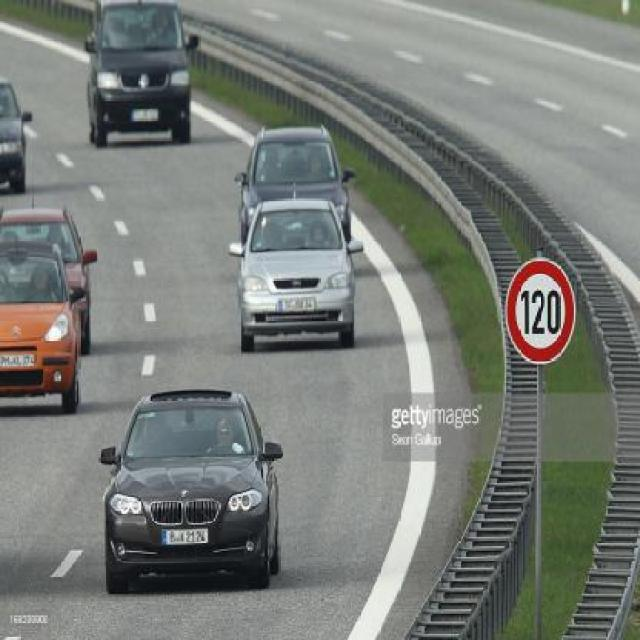forb_speed_over_120: (508, 260, 579, 363)
